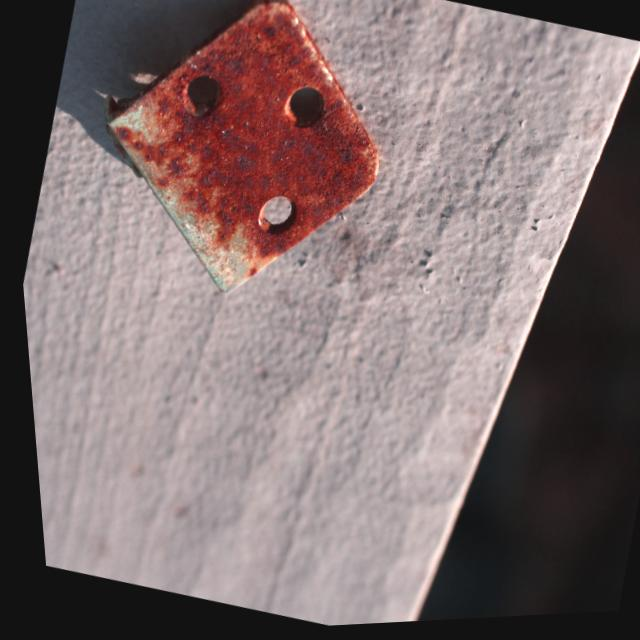corrosion: (65, 0, 421, 315)
